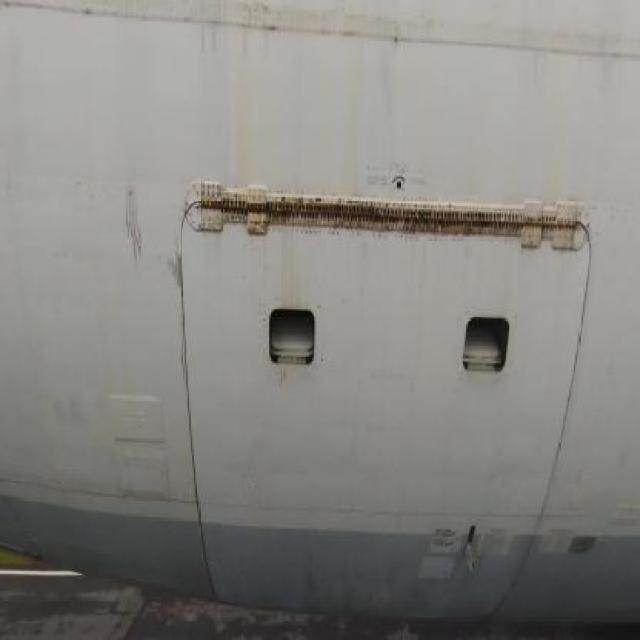Rust: (189, 178, 594, 270), (119, 170, 148, 281)
Scartch: (162, 240, 185, 314)
